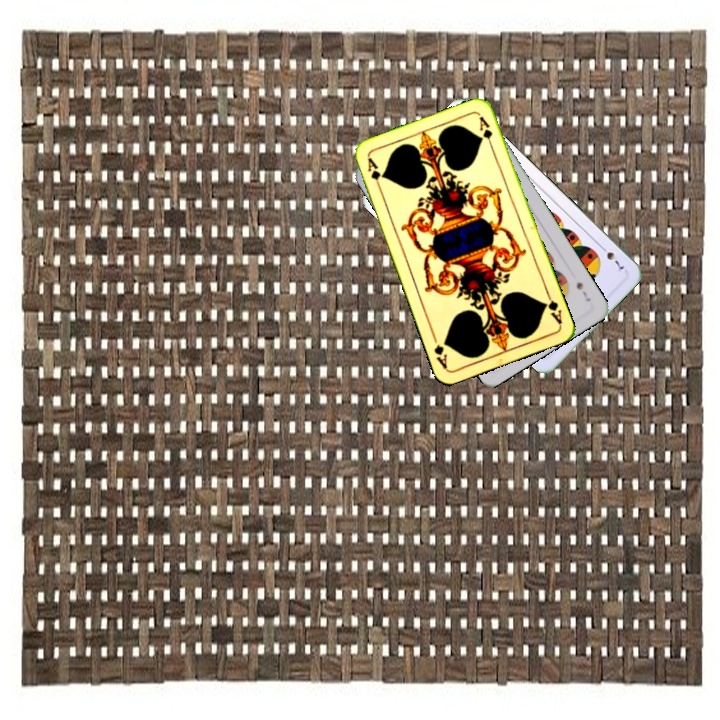GA: (540, 288, 565, 327), (363, 153, 385, 193)
S7: (596, 241, 626, 274), (572, 278, 593, 304)
